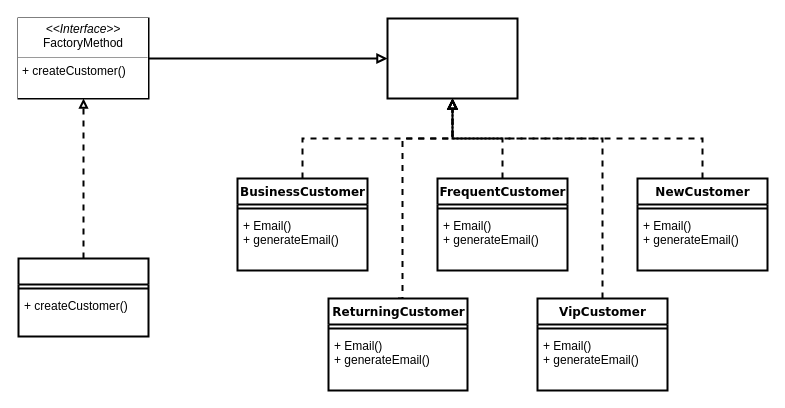
Some shapes in this 785 by 408 pixel diagram are drawn without their labels. Each missing label, with the box of its shape:
<<Interface>> Customer + generateEmail(): (386, 17, 518, 99)
CustomerFactory: (17, 257, 149, 337)
